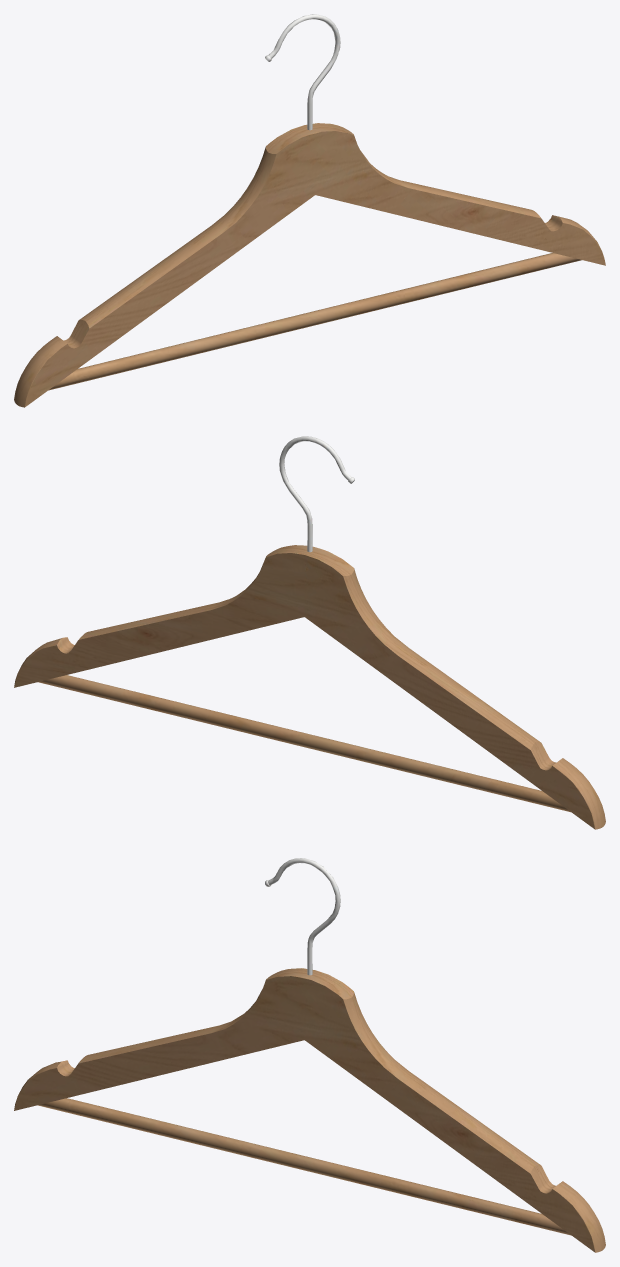
Rendered from bumerang_wieszak_30238543.glb.
3 views of the same model, one above another, from view 1: azimuth 30°, elevation 25°; view 2: azimuth 150°, elevation 25°; view 3: azimuth 330°, elevation 25° (orthographic).
Visible parts, largest first — view 1: bumerang_wieszak_30238543; view 2: bumerang_wieszak_30238543; view 3: bumerang_wieszak_30238543.
Boxes of the visible parts, <box> form: bumerang_wieszak_30238543: <box>14,14,605,407</box>; bumerang_wieszak_30238543: <box>14,436,605,829</box>; bumerang_wieszak_30238543: <box>14,858,605,1252</box>.
Size of the model in its own units: 0.4363 by 0.2274 by 0.0141.
Materials: 1 (1 with a texture image).
